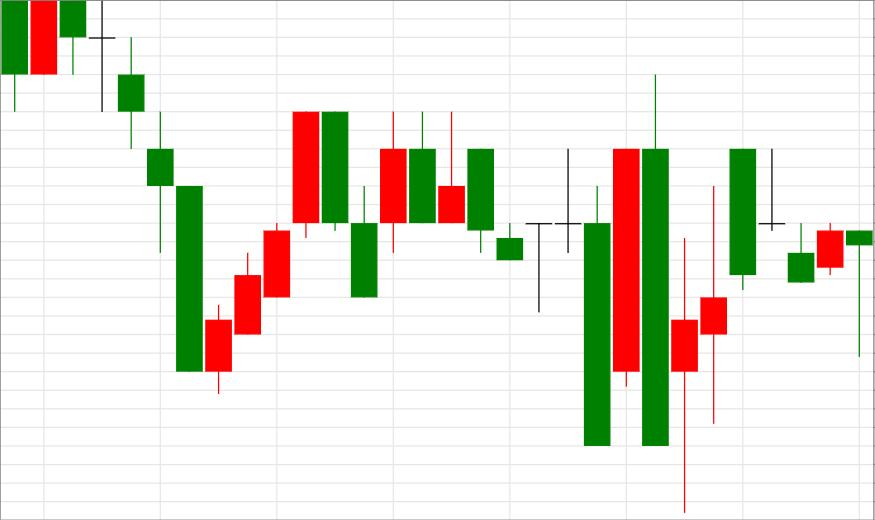three_white_soldiers_rise: (61, 1, 290, 395)
